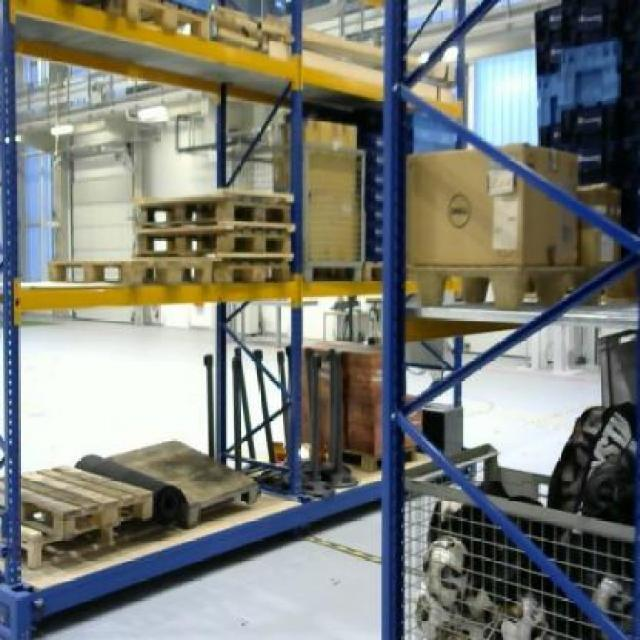box: (406, 141, 576, 264), (301, 114, 357, 262)
